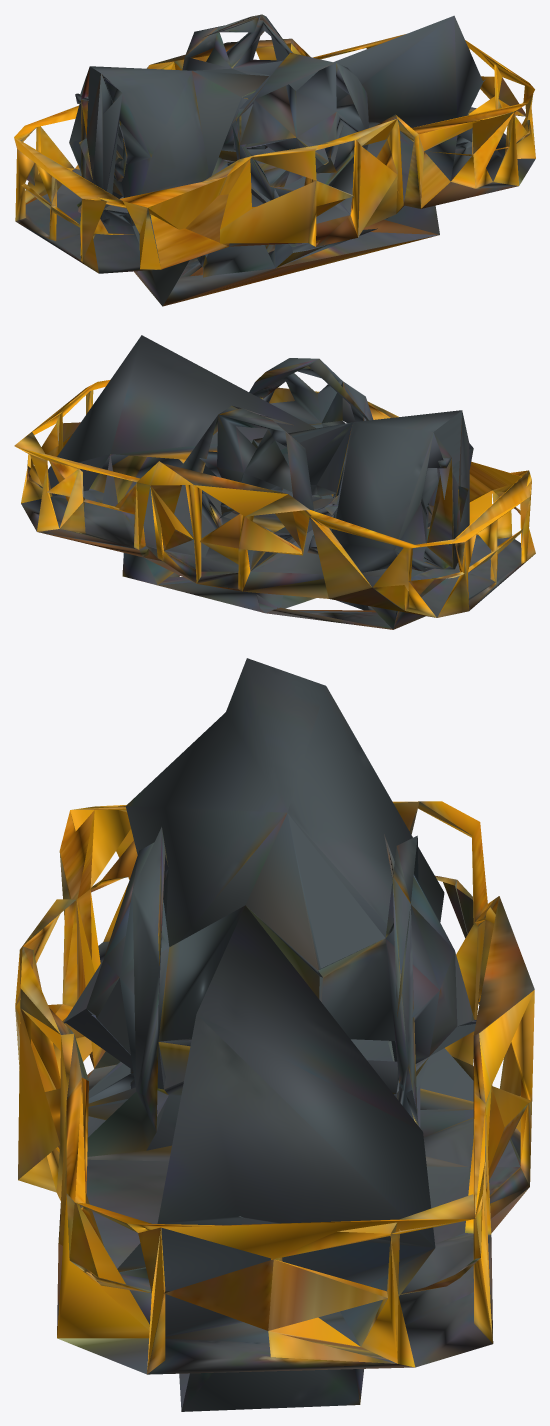
The model's file is fv_bullwheel.lod1.glb.
3 renders of one model, top to bottom at view 1: azimuth 30°, elevation 25°; view 2: azimuth 150°, elevation 25°; view 3: azimuth 270°, elevation 25°, orthographic. The views are drawn at different scales.
Visible parts, largest first — view 1: fv_bullwheel; view 2: fv_bullwheel; view 3: fv_bullwheel.
Part boxes in pixels (x1=…): fv_bullwheel: x1=14, y1=14, x2=535, y2=306; fv_bullwheel: x1=14, y1=335, x2=535, y2=629; fv_bullwheel: x1=15, y1=658, x2=534, y2=1411.
Size of the model in its own units: 5 by 2.44 by 2.52.
1 material, 1 textured.
